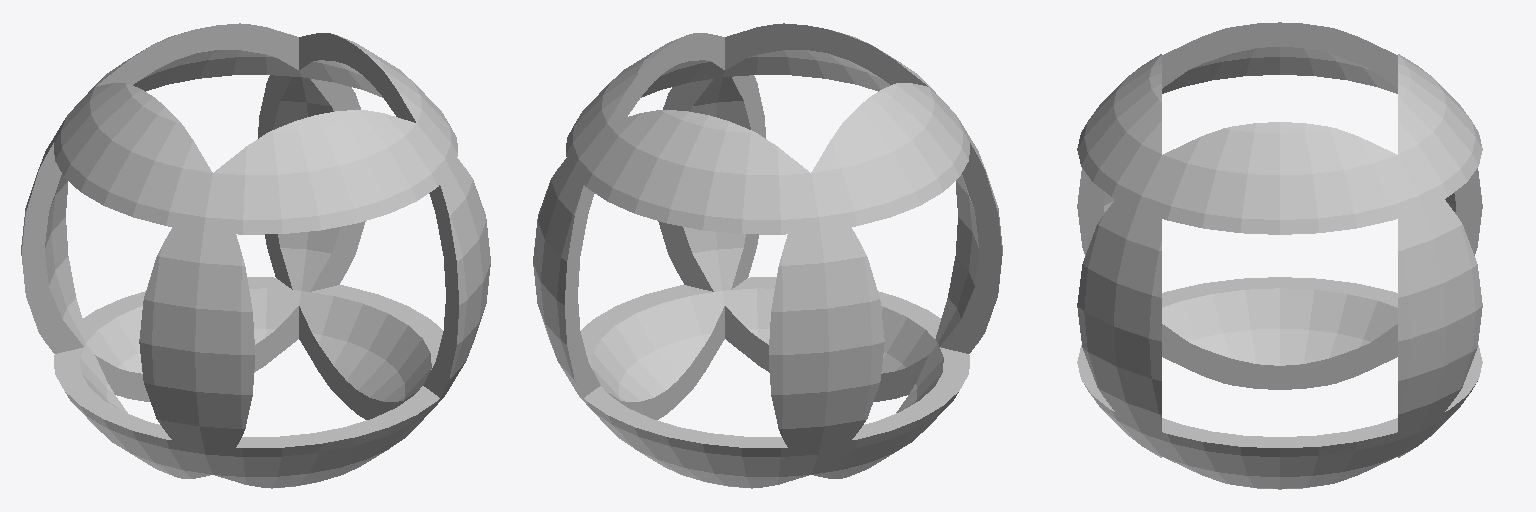
The model's file is BlankSphere.obj.
The picture shows the model from 3 angles: view 1: azimuth 30°, elevation 25°; view 2: azimuth 150°, elevation 25°; view 3: azimuth 270°, elevation 25°; orthographic projection.
Visible parts, largest first — view 1: 球; view 2: 球; view 3: 球.
Part boxes in pixels (left/top/right/bottom): 球: left=21, top=23, right=490, bottom=488; 球: left=533, top=23, right=1002, bottom=488; 球: left=1077, top=22, right=1482, bottom=489.
Size of the model in its own units: 1.72 by 1.72 by 1.72.